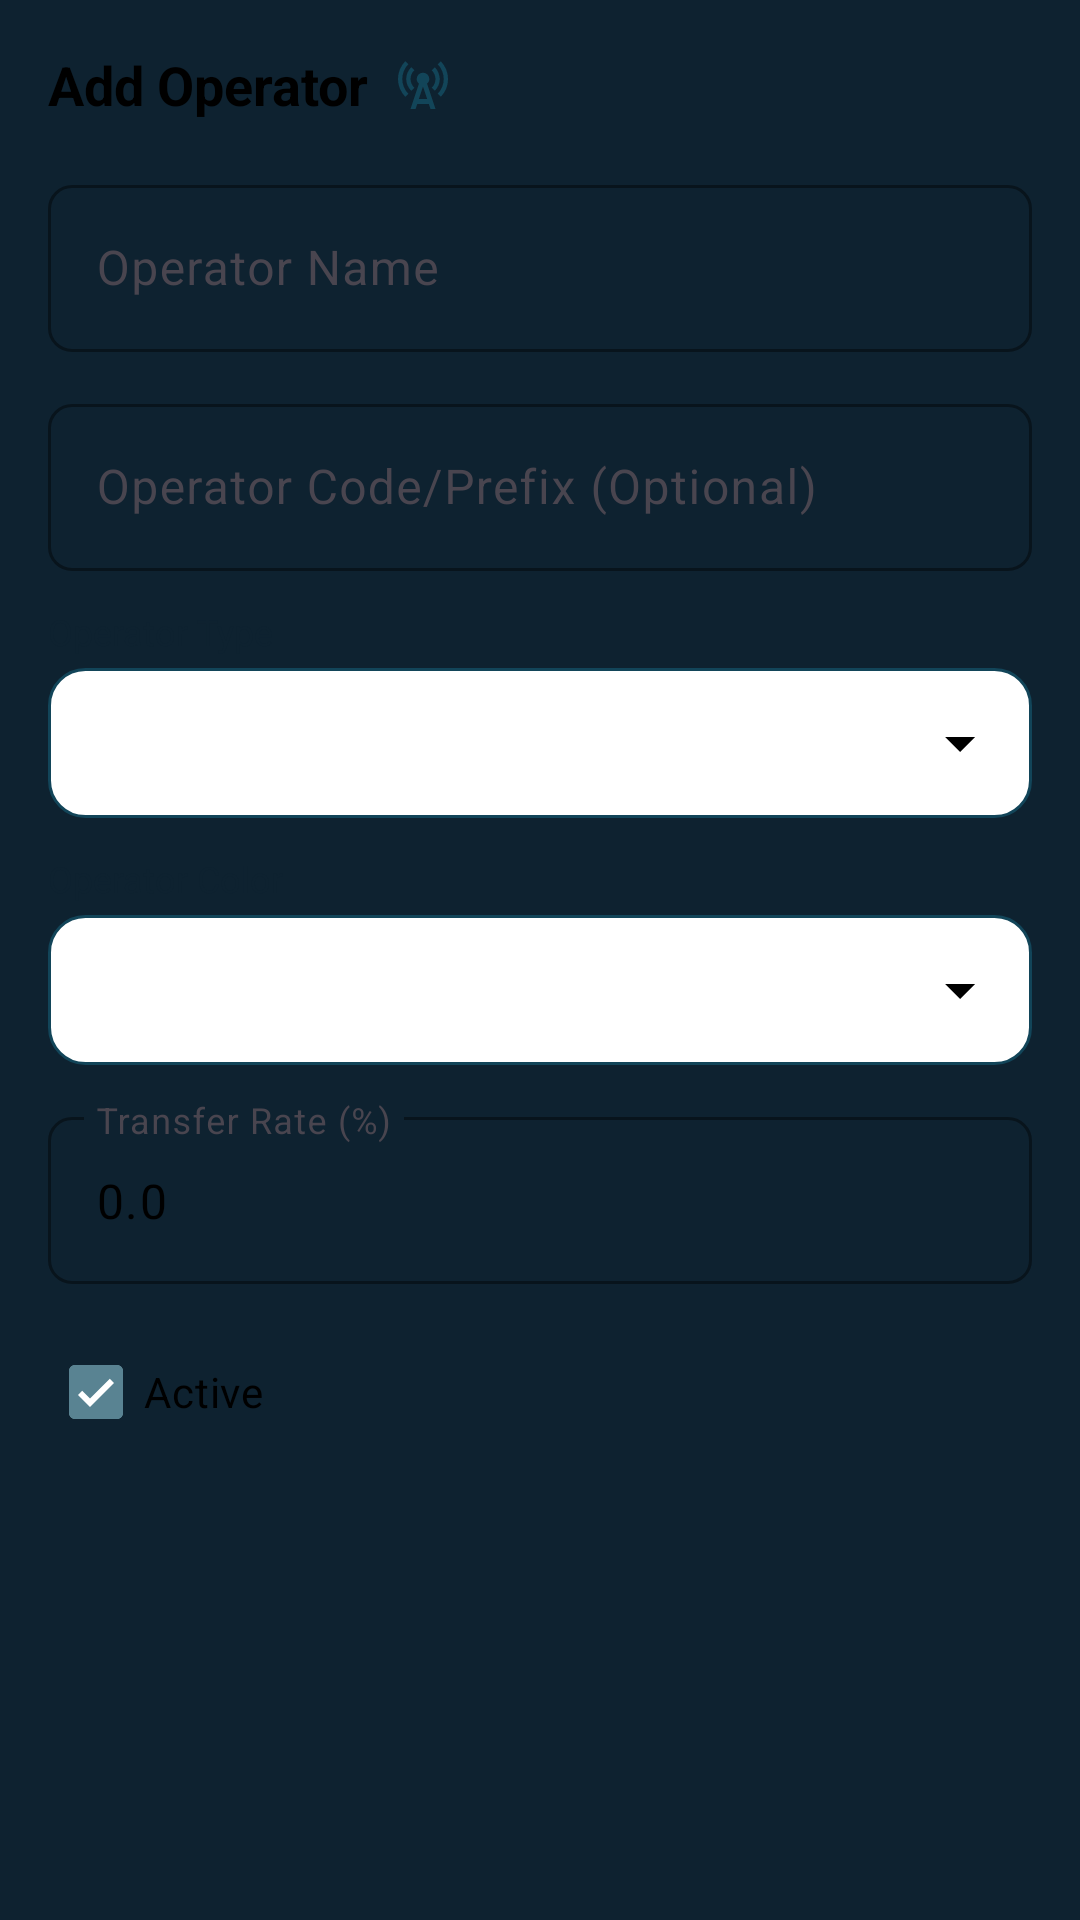

Icons on this 1080w x 1920h Android screen, each with the point to tap as (x,y):
operator tower: (423,85)
